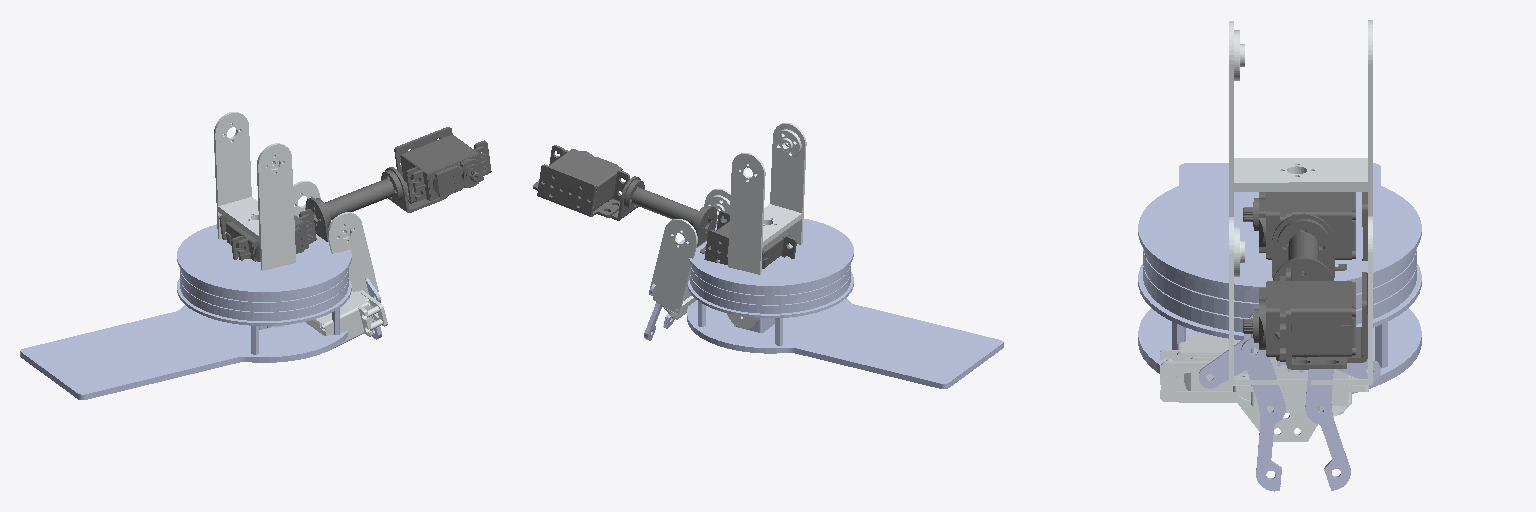
robot.urdf — six_servo:
<?xml version="1.0" encoding="utf-8" ?>
<!-- This URDF was automatically created by SolidWorks to URDF Exporter! Originally created by [author] ([email redacted]) 
     Commit Version: 1.6.0-1-g15f4949  Build Version: 1.6.7594.29634
     For more information, please see http://wiki.ros.org/sw_urdf_exporter -->
<robot name="six_servo">
    <link name="base_link">
        <inertial>
            <origin xyz="-0.018875 0.0012578 0.021854" rpy="0 0 0" />
            <mass value="0.19205" />
            <inertia ixx="0.00016092" ixy="2.2769E-06" ixz="-1.8938E-05" iyy="0.00040613" iyz="2.3218E-07" izz="0.0005467" />
        </inertial>
        <visual>
            <origin xyz="0 0 0" rpy="-1.5708 0 0" />
            <geometry>
                <mesh filename="package://six_servo/meshes/base_link.STL" scale="3 3 3"/>
            </geometry>
            <material name="">
                <color rgba="0.79216 0.81961 0.93333 1" />
            </material>
        </visual>
        <collision>
            <origin xyz="0 0 0" rpy="0 0 0" />
            <geometry>
                <mesh filename="package://six_servo/meshes/base_link.STL" scale="3 3 3"/>
            </geometry>
        </collision>
    </link>
    <link name="link1">
        <inertial>
            <origin xyz="0.019845 -0.018933 -0.01119" rpy="0 0 0" />
            <mass value="0.045014" />
            <inertia ixx="4.7182E-06" ixy="3.953E-08" ixz="1.6436E-09" iyy="9.8584E-06" iyz="-4.236E-07" izz="1.0906E-05" />
        </inertial>
        <visual>
            <origin xyz="0 0 0" rpy="0 0 0" />
            <geometry>
                <mesh filename="package://six_servo/meshes/link1.STL" scale="3 3 3"/>
            </geometry>
            <material name="">
                <color rgba="0.50196 0.50196 0.50196 1" />
            </material>
        </visual>
        <collision>
            <origin xyz="0 0 0" rpy="0 0 0" />
            <geometry>
                <mesh filename="package://six_servo/meshes/link1.STL" scale="3 3 3"/>
            </geometry>
        </collision>
    </link>
    <joint name="joint1" type="revolute">
        <!--0.0076655 -0.05 -0.014602-->
        <origin xyz="-0.0076655 -0.014602 0.05" scale="3 3 3" rpy="-3.14 -0.040154 0" />
        <parent link="base_link" />
        <child link="link1" />
        <axis xyz="0 0 1" />
        <limit lower="-1.5708" upper="1.5708" effort="100" velocity="1" />
    </joint>
    <link name="link2">
        <inertial>
            <origin xyz="-9.6446E-05 -0.051 0.011223" rpy="0 0 0" />
            <mass value="0.049995" />
            <inertia ixx="4.6603E-05" ixy="-3.0854E-08" ixz="-1.1117E-20" iyy="3.0288E-05" iyz="-5.5477E-21" izz="2.134E-05" />
        </inertial>
        <visual>
            <origin xyz="0 0 0" rpy="0 0 0" />
            <geometry>
                <mesh filename="package://six_servo/meshes/link2.STL" scale="3 3 3"/>
            </geometry>
            <material name="">
                <color rgba="0.89412 0.91373 0.92941 1" />
            </material>
        </visual>
        <collision>
            <origin xyz="0 0 0" rpy="0 0 0" />
            <geometry>
                <mesh filename="package://six_servo/meshes/link2.STL" scale="3 3 3"/>
            </geometry>
        </collision>
    </link>
    <joint name="joint2" type="revolute">
        <origin xyz="0.01 0 -0.013292" scale="3 3 3" rpy="1.5708 0 0" />
        <parent link="link1" />
        <child link="link2" />
        <axis xyz="0 0 1" />
        <limit lower="-1.52" upper="1.52" effort="100" velocity="1" />
    </joint>
    <link name="link3">
        <inertial>
            <origin xyz="0.07528 -0.018025 0.002122" rpy="0 0 0" />
            <mass value="0.11189" />
            <inertia ixx="1.1218E-05" ixy="1.0566E-10" ixz="3.2873E-09" iyy="2.5125E-05" iyz="-8.4719E-07" izz="2.7114E-05" />
        </inertial>
        <visual>
            <origin xyz="0 0 0" rpy="0 0 0" />
            <geometry>
                <mesh filename="package://six_servo/meshes/link3.STL" scale="3 3 3"/>
            </geometry>
            <material name="">
                <color rgba="0.50196 0.50196 0.50196 1" />
            </material>
        </visual>
        <collision>
            <origin xyz="0 0 0" rpy="0 0 0" />
            <geometry>
                <mesh filename="package://six_servo/meshes/link3.STL" scale="3 3 3"/>
            </geometry>
        </collision>
    </link>
    <joint name="joint3" type="revolute">
        <origin xyz="-0.00019289 -0.102 0" scale="3 3 3" rpy="-1.5708 0 -0.099914" />
        <parent link="link2" />
        <child link="link3" />
        <axis xyz="0 1 0" />
        <limit lower="-1.047" upper="2.093" effort="100" velocity="1" />
    </joint>
    <link name="link4">
        <inertial>
            <origin xyz="-0.012388 0.035123 1.8331E-05" rpy="0 0 0" />
            <mass value="0.051687" />
            <inertia ixx="1.0059E-05" ixy="3.877E-08" ixz="6.0397E-13" iyy="1.9542E-05" iyz="3.8857E-09" izz="2.5393E-05" />
        </inertial>
        <visual>
            <origin xyz="0 0 0" rpy="0 0 0" />
            <geometry>
                <mesh filename="package://six_servo/meshes/link4.STL" scale="3 3 3"/>
            </geometry>
            <material name="">
                <color rgba="0.89804 0.91765 0.92941 1" />
            </material>
        </visual>
        <collision>
            <origin xyz="0 0 0" rpy="0 0 0" />
            <geometry>
                <mesh filename="package://six_servo/meshes/link4.STL" scale="3 3 3"/>
            </geometry>
        </collision>
    </link>
    <joint name="joint4" type="revolute">
        <origin xyz="0.15057 0 0" scale="3 3 3" rpy="1.6698 0 1.5708" />
        <parent link="link3" />
        <child link="link4" />
        <axis xyz="1 0 0" />
        <limit lower="-0.7854" upper="2.3546" effort="100" velocity="1" />
    </joint>
    <link name="link5">
        <inertial>
            <origin xyz="-0.016771 -0.019023 -0.026447" rpy="0 0 0" />
            <mass value="0.039432" />
            <inertia ixx="7.2715E-06" ixy="-7.6833E-08" ixz="3.0175E-10" iyy="2.3347E-06" iyz="8.7991E-09" izz="6.5466E-06" />
        </inertial>
        <visual>
            <origin xyz="0 0 0" rpy="0 0 0" />
            <geometry>
                <mesh filename="package://six_servo/meshes/link5.STL" scale="3 3 3"/>
            </geometry>
            <material name="">
                <color rgba="0.89412 0.91373 0.92941 1" />
            </material>
        </visual>
        <collision>
            <origin xyz="0 0 0" rpy="0 0 0" />
            <geometry>
                <mesh filename="package://six_servo/meshes/link5.STL" scale="3 3 3"/>
            </geometry>
        </collision>
    </link>
    <joint name="joint5" type="revolute">
        <origin xyz="-0.02325 0.066804 3.5745E-05" scale="3 3 3" rpy="-1.5708 -1.566 3.1416" />
        <parent link="link4" />
        <child link="link5" />
        <axis xyz="0 0 1" />
        <limit lower="-1.5708" upper="1.5708" effort="100" velocity="1" />
    </joint>
    <link name="link6_1">
        <inertial>
            <origin xyz="0.00011182 -0.0027632 0.0047626" rpy="0 0 0" />
            <mass value="0.0034196" />
            <inertia ixx="2.6556E-07" ixy="-4.9134E-09" ixz="9.2644E-23" iyy="9.8312E-08" iyz="3.4328E-22" izz="3.5886E-07" />
        </inertial>
        <visual>
            <origin xyz="0 0 0" rpy="0 0 0" />
            <geometry>
                <mesh filename="package://six_servo/meshes/link6_1.STL" scale="3 3 3"/>
            </geometry>
            <material name="">
                <color rgba="0.79216 0.81961 0.93333 1" />
            </material>
        </visual>
        <collision>
            <origin xyz="0 0 0" rpy="0 0 0" />
            <geometry>
                <mesh filename="package://six_servo/meshes/link6_1.STL" scale="3 3 3"/>
            </geometry>
        </collision>
    </link>
    <joint name="joint6_1" type="continuous">
        <origin xyz="0 -0.0135 -0.029571" scale="3 3 3" rpy="1.5708 0.98921 1.5708"/>
        <parent link="link5" />
        <child link="link6_1" />
        <axis xyz="0 0 1" />
        <limit lower="0" upper="0" effort="100" velocity="1" />
    </joint>
    <link name="link7_1">
        <inertial>
            <origin xyz="-0.0062954 0.022738 0.014232" rpy="0 0 0" />
            <mass value="0.0014839" />
            <inertia ixx="4.3406E-07" ixy="7.4037E-08" ixz="7.9409E-23" iyy="2.9089E-08" iyz="-4.0739E-22" izz="4.6093E-07" />
        </inertial>
        <visual>
            <origin xyz="0 0 0" rpy="0 0 0" />
            <geometry>
                <mesh filename="package://six_servo/meshes/link7_1.STL" scale="3 3 3"/>
            </geometry>
            <material name="">
                <color rgba="0.79216 0.81961 0.93333 1" />
            </material>
        </visual>
        <collision>
            <origin xyz="0 0 0" rpy="0 0 0" />
            <geometry>
                <mesh filename="package://six_servo/meshes/link7_1.STL" scale="3 3 3"/>
            </geometry>
        </collision>
    </link>
    <joint name="joint7_1" type="continuous">
        <origin xyz="-0.00019564 -0.031049 -0.010482" scale="3 3 3" rpy="0 0 -2.2378" />
        <parent link="link6_1" />
        <child link="link7_1" />
        <axis xyz="0 0 1" />
        <limit lower="0" upper="0" effort="100" velocity="1" />
    </joint>
    <link name="link6_2">
        <inertial>
            <origin xyz="0.00026689 -0.0065013 -0.011645" rpy="0 0 0" />
            <mass value="0.0014534" />
            <inertia ixx="2.1584E-07" ixy="-4.8715E-09" ixz="2.9779E-23" iyy="4.7208E-08" iyz="2.068E-23" izz="2.62E-07" />
        </inertial>
        <visual>
            <origin xyz="0 0 0" rpy="0 0 0" />
            <geometry>
                <mesh filename="package://six_servo/meshes/link6_2.STL" scale="3 3 3"/>
            </geometry>
            <material name="">
                <color rgba="0.79216 0.81961 0.93333 1" />
            </material>
        </visual>
        <collision>
            <origin xyz="0 0 0" rpy="0 0 0" />
            <geometry>
                <mesh filename="package://six_servo/meshes/link6_2.STL" scale="3 3 3"/>
            </geometry>
        </collision>
    </link>
    <joint name="joint6_2" type="continuous">
        <origin xyz="-0.0054227 0.014 -0.029946" scale="3 3 3" rpy="1.5708 1.1052 -1.5708" />
        <parent link="link5" />
        <child link="link6_2" />
        <axis xyz="0 0 1" />
        <limit lower="0" upper="0" effort="100" velocity="1" />
    </joint>
    <link name="link7_2">
        <inertial>
            <origin xyz="-0.0062954 0.022738 -0.01465" rpy="0 0 0" />
            <mass value="0.0014839" />
            <inertia ixx="4.3406E-07" ixy="7.4037E-08" ixz="-2.068E-23" iyy="2.9089E-08" iyz="-3.3294E-23" izz="4.6093E-07" />
        </inertial>
        <visual>
            <origin xyz="0 0 0" rpy="0 0 0" />
            <geometry>
                <mesh filename="package://six_servo/meshes/link7_2.STL" scale="3 3 3"/>
            </geometry>
            <material name="">
                <color rgba="0.79216 0.81961 0.93333 1" />
            </material>
        </visual>
        <collision>
            <origin xyz="0 0 0" rpy="0 0 0" />
            <geometry>
                <mesh filename="package://six_servo/meshes/link7_2.STL" scale="3 3 3"/>
            </geometry>
        </collision>
    </link>
    <joint name="joint7_2" type="continuous">
        <origin xyz="-0.00019564 -0.031049 0.005427" scale="3 3 3" rpy="0 0 -2.3584" />
        <parent link="link6_2" />
        <child link="link7_2" />
        <axis xyz="0 0 1" />
        <limit lower="0" upper="0" effort="100" velocity="1" />
    </joint>
    <transmission name="trans_joint1">
        <type>transmission_interface/SimpleTransmission</type>
        <joint name="joint1">
            <hardwareInterface>hardware_interface/EffortJointInterface</hardwareInterface>
        </joint>
        <actuator name="joint1_motor">
            <hardwareInterface>hardware_interface/EffortJointInterface</hardwareInterface>
            <mechanicalReduction>1</mechanicalReduction>
        </actuator>
    </transmission>
    <transmission name="trans_joint2">
        <type>transmission_interface/SimpleTransmission</type>
        <joint name="joint2">
            <hardwareInterface>hardware_interface/EffortJointInterface</hardwareInterface>
        </joint>
        <actuator name="joint2_motor">
            <hardwareInterface>hardware_interface/EffortJointInterface</hardwareInterface>
            <mechanicalReduction>1</mechanicalReduction>
        </actuator>
    </transmission>
    <transmission name="trans_joint3">
        <type>transmission_interface/SimpleTransmission</type>
        <joint name="joint3">
            <hardwareInterface>hardware_interface/EffortJointInterface</hardwareInterface>
        </joint>
        <actuator name="joint3_motor">
            <hardwareInterface>hardware_interface/EffortJointInterface</hardwareInterface>
            <mechanicalReduction>1</mechanicalReduction>
        </actuator>
    </transmission>
    <transmission name="trans_joint4">
        <type>transmission_interface/SimpleTransmission</type>
        <joint name="joint4">
            <hardwareInterface>hardware_interface/EffortJointInterface</hardwareInterface>
        </joint>
        <actuator name="joint4_motor">
            <hardwareInterface>hardware_interface/EffortJointInterface</hardwareInterface>
            <mechanicalReduction>1</mechanicalReduction>
        </actuator>
    </transmission>
    <transmission name="trans_joint5">
        <type>transmission_interface/SimpleTransmission</type>
        <joint name="joint5">
            <hardwareInterface>hardware_interface/EffortJointInterface</hardwareInterface>
        </joint>
        <actuator name="joint5_motor">
            <hardwareInterface>hardware_interface/EffortJointInterface</hardwareInterface>
            <mechanicalReduction>1</mechanicalReduction>
        </actuator>
    </transmission>
    <transmission name="trans_joint6_1">
        <type>transmission_interface/SimpleTransmission</type>
        <joint name="joint6_1">
            <hardwareInterface>hardware_interface/EffortJointInterface</hardwareInterface>
        </joint>
        <actuator name="joint6_1_motor">
            <hardwareInterface>hardware_interface/EffortJointInterface</hardwareInterface>
            <mechanicalReduction>1</mechanicalReduction>
        </actuator>
    </transmission>
    <transmission name="trans_joint7_1">
        <type>transmission_interface/SimpleTransmission</type>
        <joint name="joint7_1">
            <hardwareInterface>hardware_interface/EffortJointInterface</hardwareInterface>
        </joint>
        <actuator name="joint7_1_motor">
            <hardwareInterface>hardware_interface/EffortJointInterface</hardwareInterface>
            <mechanicalReduction>1</mechanicalReduction>
        </actuator>
    </transmission>
    <transmission name="trans_joint6_2">
        <type>transmission_interface/SimpleTransmission</type>
        <joint name="joint6_2">
            <hardwareInterface>hardware_interface/EffortJointInterface</hardwareInterface>
        </joint>
        <actuator name="joint6_2_motor">
            <hardwareInterface>hardware_interface/EffortJointInterface</hardwareInterface>
            <mechanicalReduction>1</mechanicalReduction>
        </actuator>
    </transmission>
    <transmission name="trans_joint7_2">
        <type>transmission_interface/SimpleTransmission</type>
        <joint name="joint7_2">
            <hardwareInterface>hardware_interface/EffortJointInterface</hardwareInterface>
        </joint>
        <actuator name="joint7_2_motor">
            <hardwareInterface>hardware_interface/EffortJointInterface</hardwareInterface>
            <mechanicalReduction>1</mechanicalReduction>
        </actuator>
    </transmission>
    <gazebo>
        <plugin name="gazebo_ros_control">
            <robotNamespace>/</robotNamespace>
        </plugin>
    </gazebo>
</robot>

--- Facts derived from the render (not from the file) ---
Views: 3 orthographic renders of the robot side by side, from view 1: azimuth 30°, elevation 25°; view 2: azimuth 150°, elevation 25°; view 3: azimuth 270°, elevation 25°.
Model six_servo with 10 links and 9 joints (5 revolute, 4 continuous), rooted at base_link, posed every joint at zero.
Links seen in each view (by area): view 1: base_link, link3, link2, link4, link5; view 2: base_link, link3, link2, link4; view 3: base_link, link3, link2, link5, link4, link7_1, link7_2, link6_1, link6_2.
Link boxes in pixels (<box>): base_link: <box>20,224,351,399</box>; link3: <box>219,127,491,261</box>; link2: <box>214,112,295,327</box>; link4: <box>293,181,378,293</box>; link5: <box>306,290,387,347</box>; base_link: <box>687,219,1003,388</box>; link3: <box>533,145,796,268</box>; link2: <box>727,123,806,328</box>; link4: <box>649,189,730,316</box>; base_link: <box>1138,163,1421,393</box>; link3: <box>1243,192,1367,369</box>; link2: <box>1229,20,1372,216</box>; link5: <box>1160,336,1317,441</box>; link4: <box>1229,216,1372,417</box>; link7_1: <box>1241,338,1285,491</box>; link7_2: <box>1305,369,1350,490</box>; link6_1: <box>1199,312,1253,388</box>; link6_2: <box>1269,357,1380,381</box>.
Bounding box of the posed robot: 0.9861 × 0.3359 × 0.4923 m (x, y, z).
10 mesh visuals loaded from 10 distinct referenced files (10 binary STL).